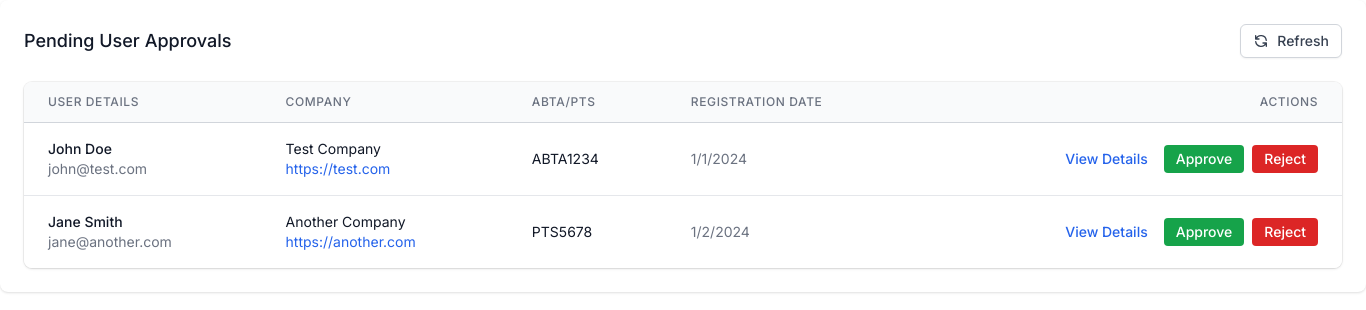
Test: ApprovalDashboard › handles approval error gracefully
Expected: the text "John Doe" is shown, 48,140 -> 112,157
Click the button "Approve" in the row of "John Doe": click(1204, 159) 1164,145 -> 1244,173
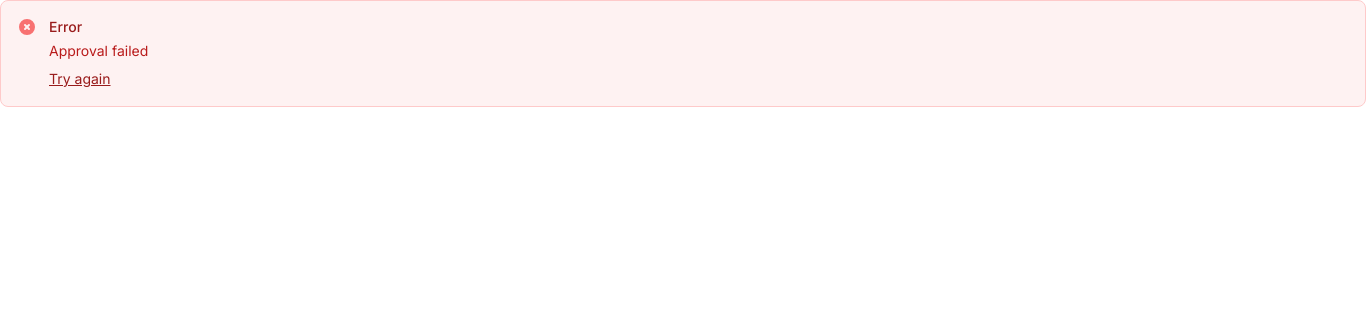
Expected: the text "Approval failed" is shown, 49,41 -> 148,61
